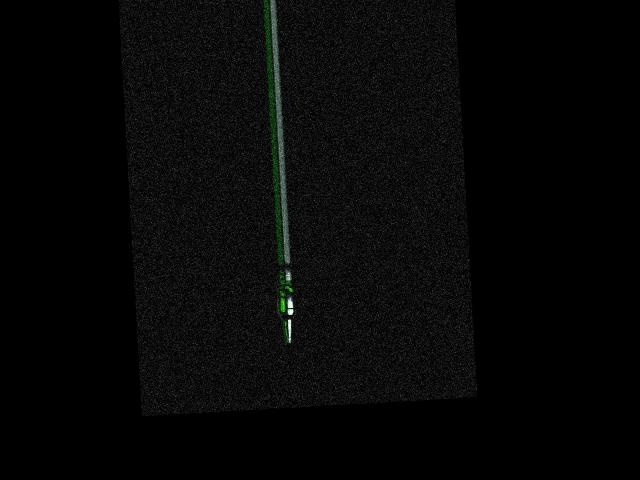beer: (275, 273, 295, 343)
